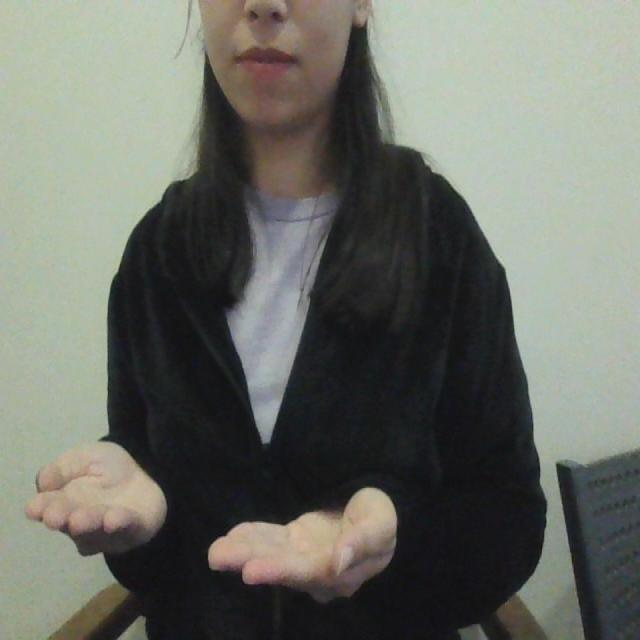Evet: (24, 438, 409, 600)
